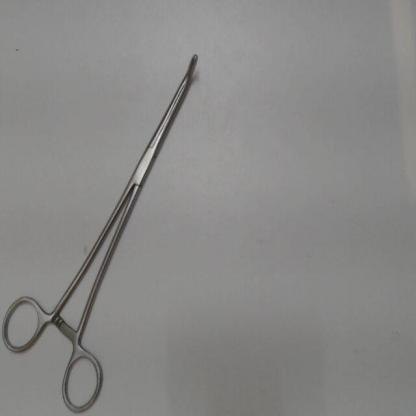Lahey Forceps: (2, 48, 204, 415)
